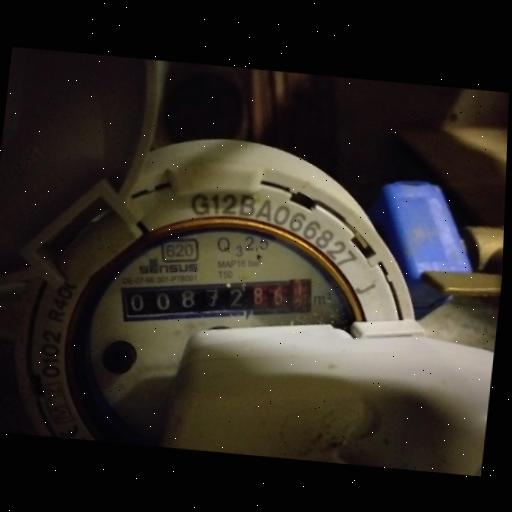0: (123, 288, 155, 319), (148, 288, 178, 317)
1: (285, 277, 315, 317)
2: (221, 283, 255, 313)
6: (266, 281, 292, 311)
7: (196, 284, 229, 314)
8: (172, 286, 203, 315), (248, 282, 272, 310)
border_water_meter_number: (117, 261, 317, 339)
